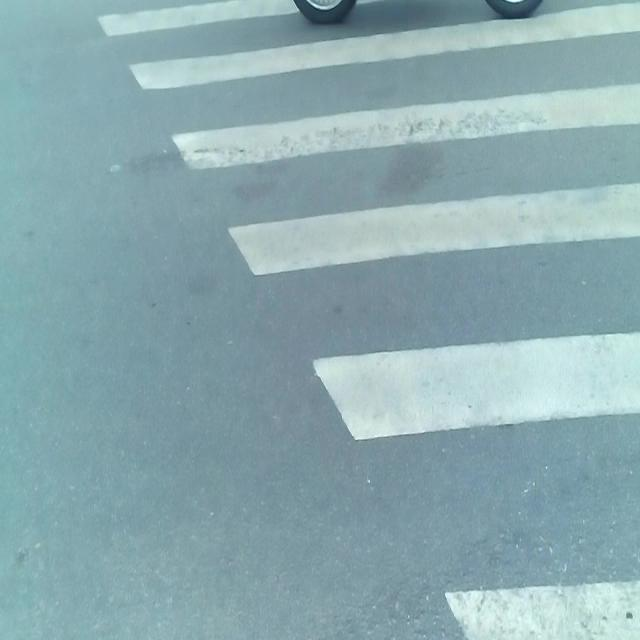crosswalk: (74, 0, 640, 640)
